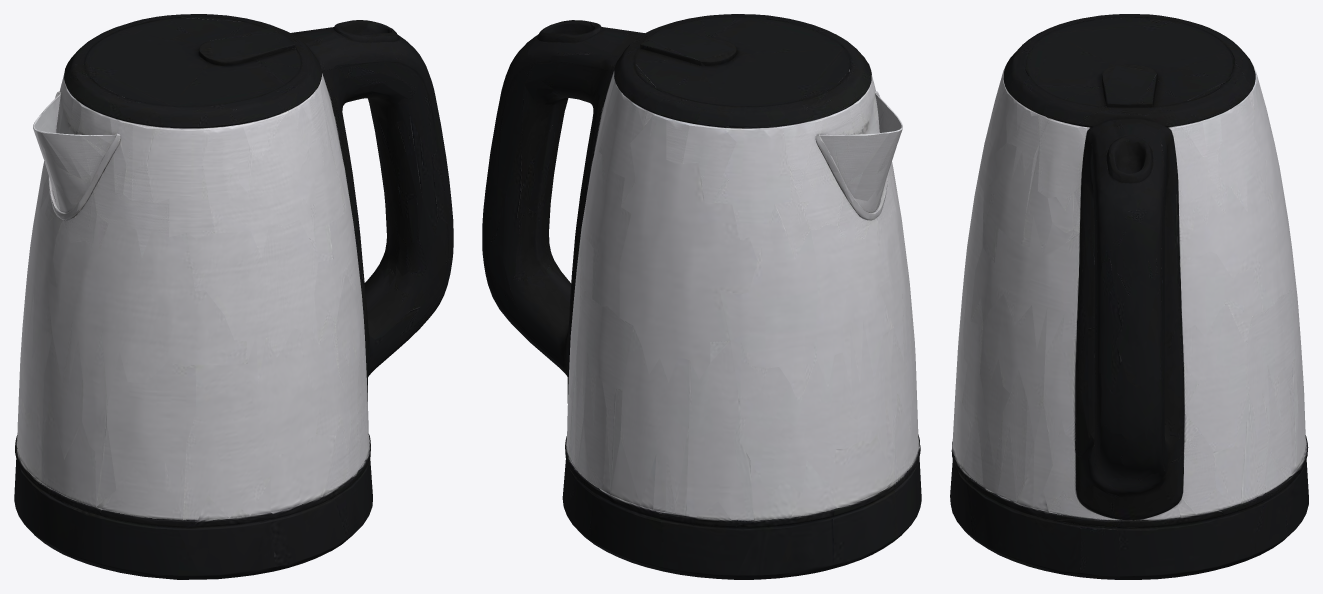
Rendered from w51kettle.glb.
3 renders of one model, left to right at view 1: azimuth 30°, elevation 25°; view 2: azimuth 150°, elevation 25°; view 3: azimuth 270°, elevation 25°, orthographic.
Parts seen in each view (by area): view 1: output_unwrapped; view 2: output_unwrapped; view 3: output_unwrapped.
Boxes of the visible parts, x1,y1,x2,y2 form: output_unwrapped: [14, 14, 453, 579]; output_unwrapped: [482, 14, 921, 579]; output_unwrapped: [950, 14, 1308, 579].
Size of the model in its own units: 0.23 by 0.24 by 0.1742.
1 material, 1 textured.
